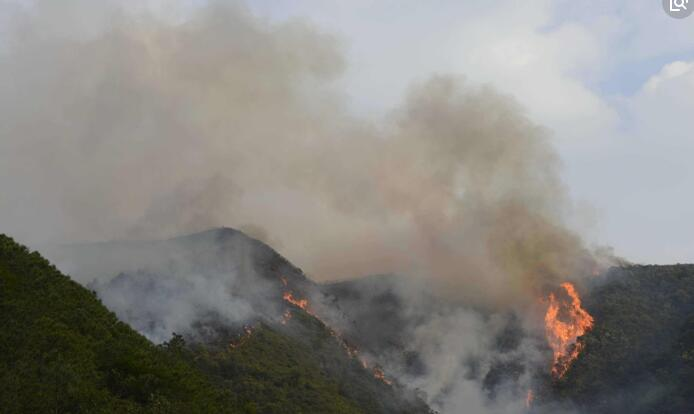fire: (535, 279, 592, 376)
yanwu: (1, 1, 577, 411)
